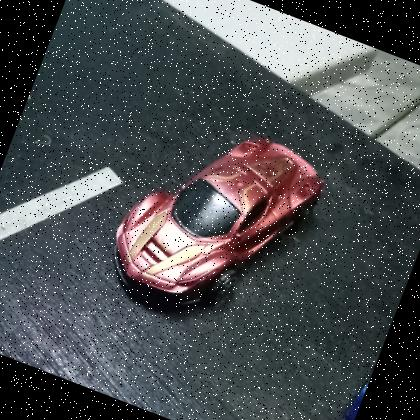Car: (93, 96, 338, 348)
